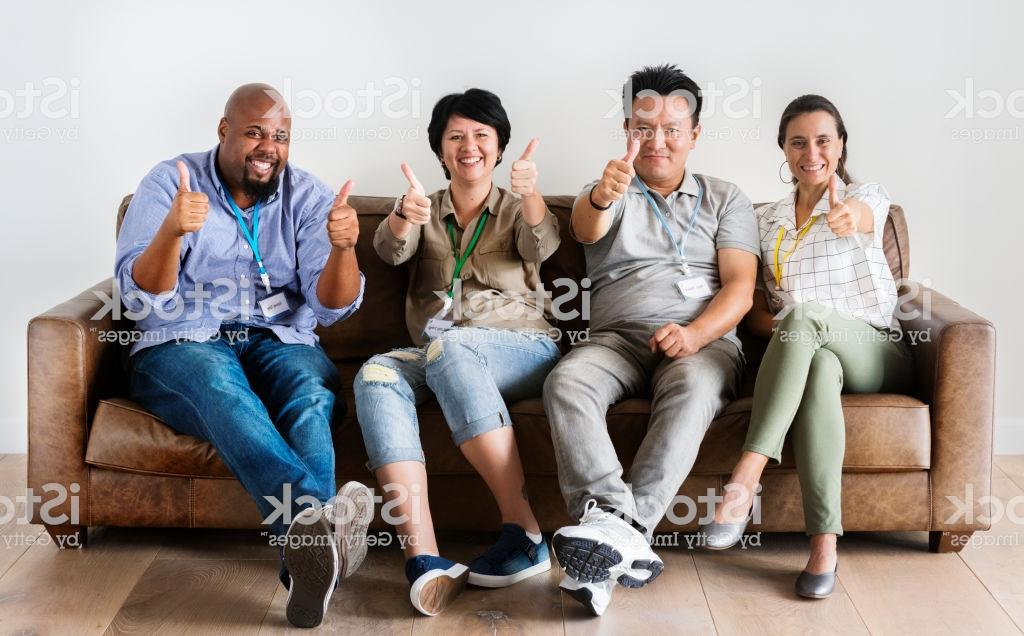thumbsup: (174, 159, 211, 234), (599, 138, 641, 202), (325, 178, 361, 250), (397, 161, 432, 226), (826, 174, 859, 239), (508, 135, 542, 197)
